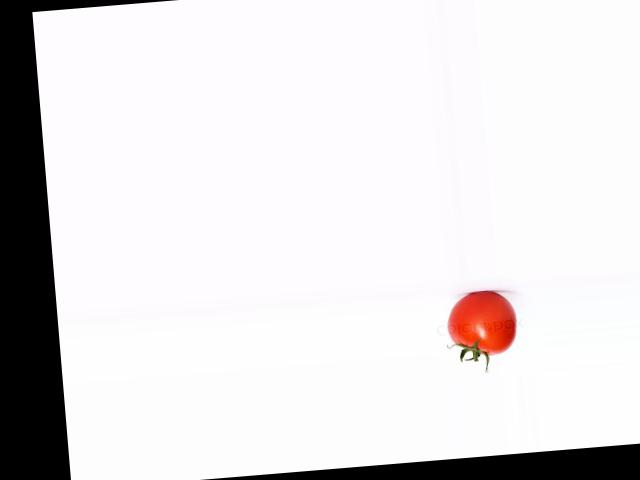tomato: (446, 289, 519, 358)
